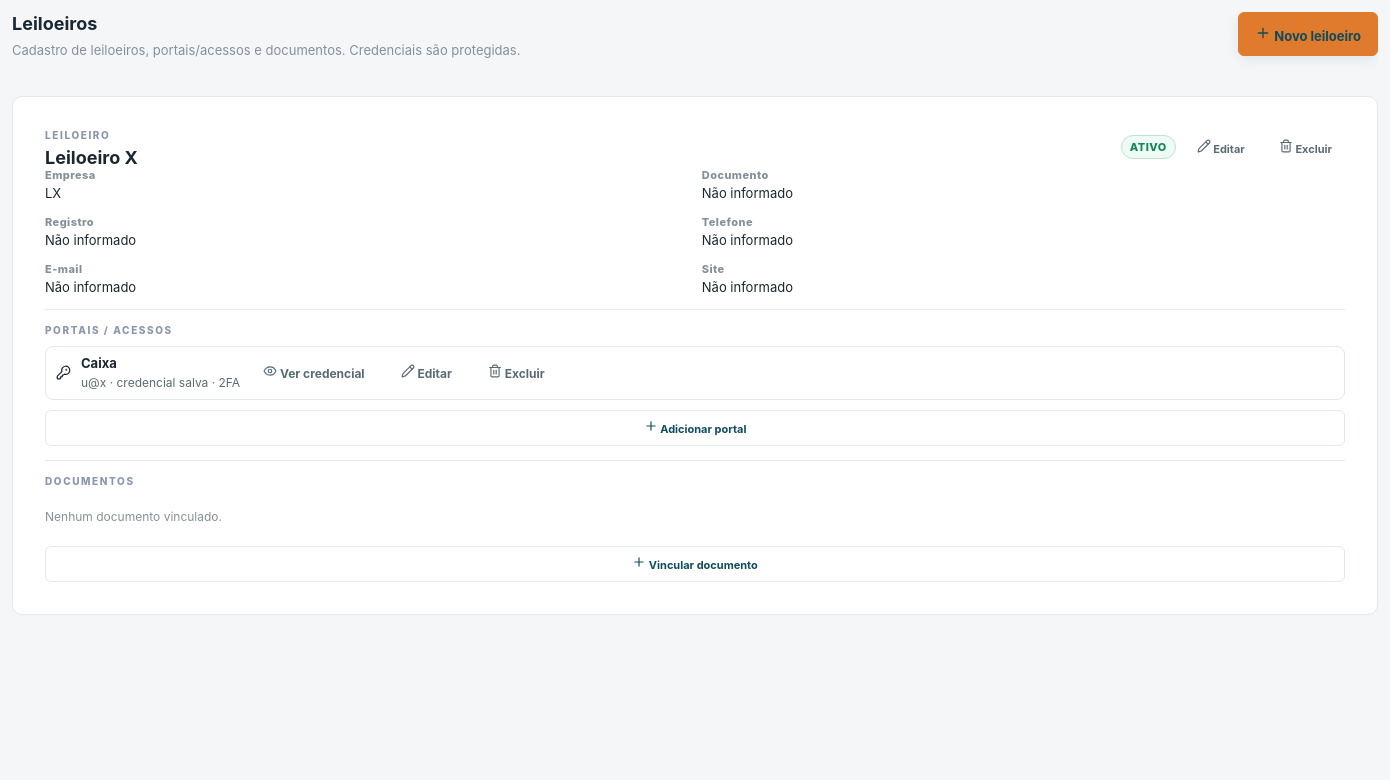
Test: AuctioneersPage › exclui um leiloeiro após confirmação
Expected: the heading "Leiloeiro X" is shown, [45,147,138,168]
Click the button "Excluir" in the row of "ATIVO" at {"x": 1305, "y": 148}, box [1266,130,1345,166]
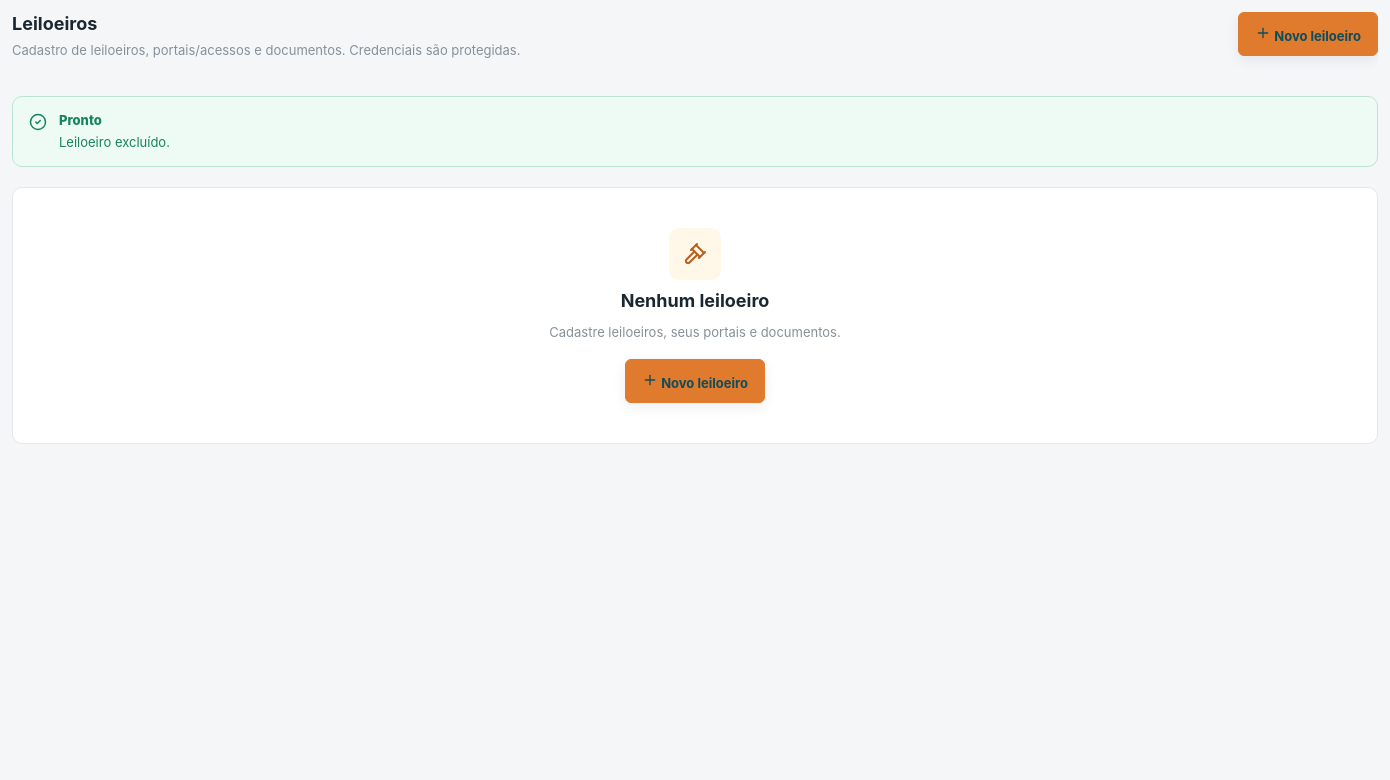
Now the text "Leiloeiro excluído." is shown, box [59,134,170,150]
